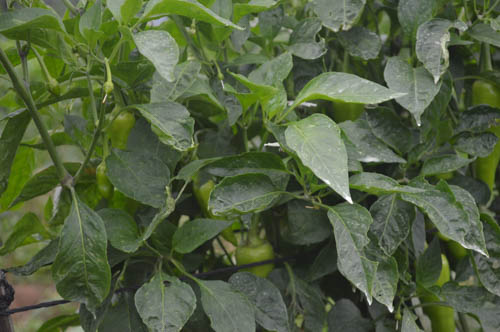ChiliPepper: (469, 76, 500, 194), (416, 252, 454, 331), (198, 186, 236, 249), (233, 245, 278, 276), (109, 111, 135, 162), (98, 163, 116, 200)
